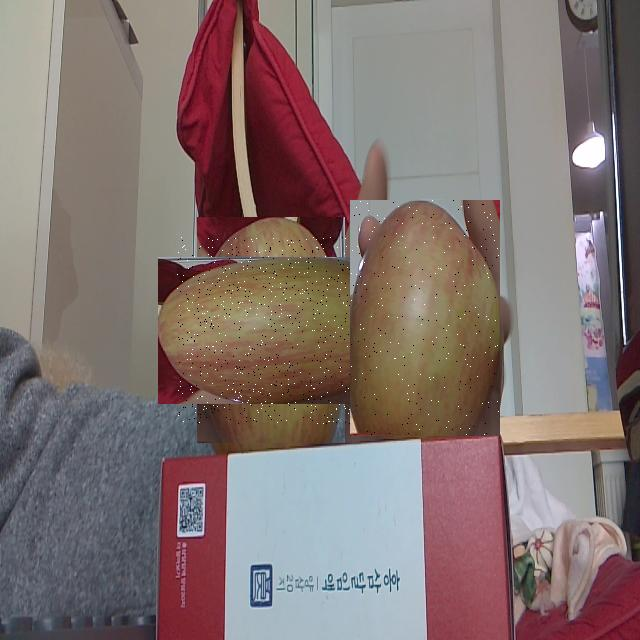apple: (350, 200, 500, 436), (177, 237, 365, 424)
